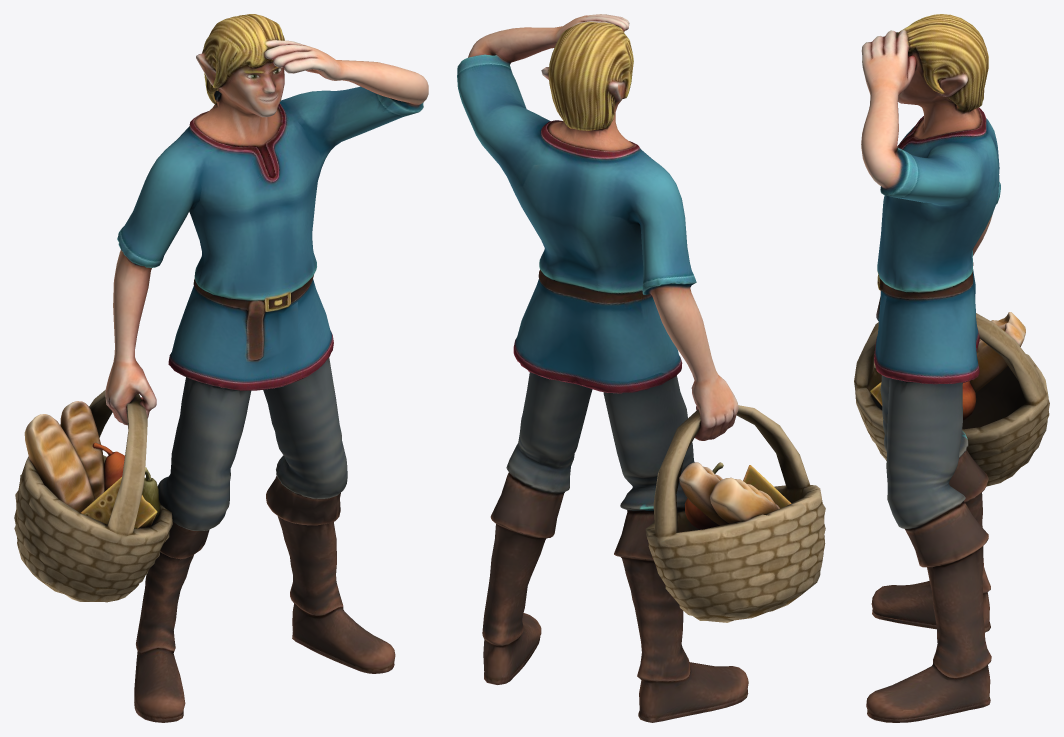
Rendered from MZ4250 - Commoner Male 01.glb.
3 views of the same model, side by side, from view 1: azimuth 30°, elevation 25°; view 2: azimuth 150°, elevation 25°; view 3: azimuth 270°, elevation 25° (orthographic).
Visible parts, largest first — view 1: body_high.002, basket_high.002, 1_high.002, 2_high.002, 3_high.002, 4_high.002; view 2: body_high.002, basket_high.002, 1_high.002, 2_high.002, 3_high.002; view 3: body_high.002, basket_high.002, 2_high.002, 4_high.002.
Part boxes in pixels (x1,y1,x2,y2): body_high.002: (105,14,428,722); basket_high.002: (14,390,172,602); 1_high.002: (24,414,95,512); 2_high.002: (60,401,104,499); 3_high.002: (80,477,157,528); 4_high.002: (93,443,124,490); body_high.002: (457,14,748,722); basket_high.002: (645,405,825,622); 1_high.002: (710,477,779,523); 2_high.002: (679,462,728,525); 3_high.002: (743,465,791,508); body_high.002: (861,14,1000,722); basket_high.002: (854,313,1049,486); 2_high.002: (970,323,1024,392); 4_high.002: (962,381,976,420).
Size of the model in its own units: 3.84 by 6.43 by 1.77.
Materials: 1 (1 with a texture image).
